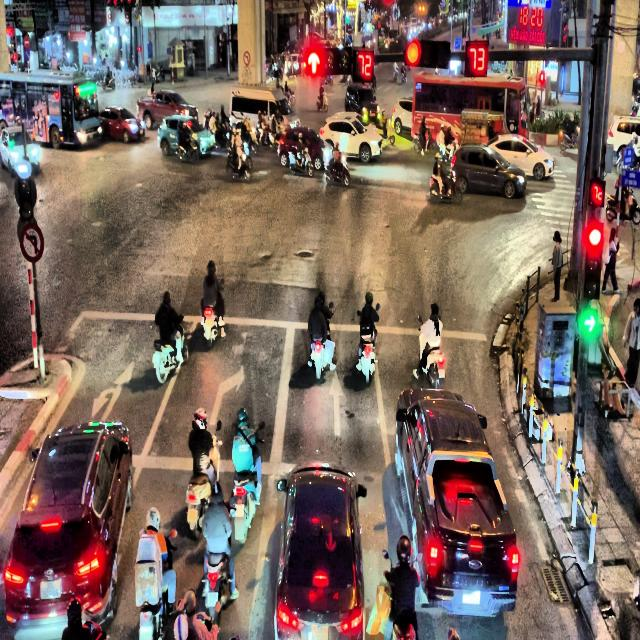BUS: (411, 71, 529, 150), (0, 69, 102, 149)
CAR: (4, 420, 133, 638), (412, 450, 520, 617), (274, 463, 367, 639), (395, 388, 490, 522), (451, 144, 527, 199), (484, 132, 554, 180), (318, 112, 382, 163), (157, 114, 216, 160), (277, 126, 333, 172), (137, 90, 198, 130), (0, 126, 41, 176), (98, 105, 145, 144), (606, 115, 640, 164), (345, 83, 379, 118), (391, 97, 413, 135), (276, 97, 300, 128)
MOTORBIKE: (134, 528, 177, 638), (196, 502, 236, 614), (228, 438, 264, 545), (186, 432, 222, 538), (416, 315, 446, 389), (152, 320, 186, 384), (307, 301, 335, 378), (356, 309, 378, 385), (200, 284, 225, 348), (605, 186, 640, 225), (430, 162, 462, 204), (324, 149, 351, 186), (226, 144, 252, 182), (176, 123, 200, 162), (289, 146, 314, 177), (412, 129, 434, 155), (377, 118, 395, 147), (316, 89, 328, 112)
